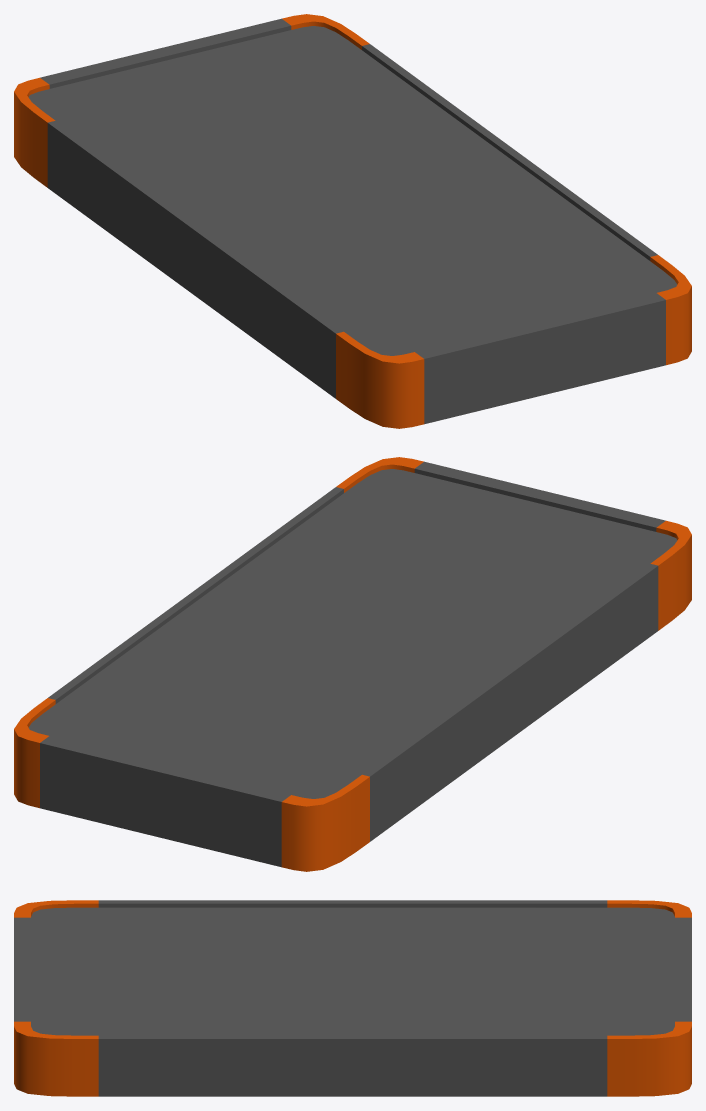
The model's file is FleetBoy2000.fbx.
3 views of the same model, one above another, from view 1: azimuth 30°, elevation 25°; view 2: azimuth 150°, elevation 25°; view 3: azimuth 270°, elevation 25° (orthographic). The views are drawn at different scales.
Visible parts, largest first — view 1: FleetBoy2000mk1; view 2: FleetBoy2000mk1; view 3: FleetBoy2000mk1.
Part boxes in pixels (x1,y1,x2,y2): FleetBoy2000mk1: (14,14,691,428); FleetBoy2000mk1: (14,457,691,871); FleetBoy2000mk1: (14,900,691,1096).
Size of the model in its own units: 7.75 by 1.5 by 16.
